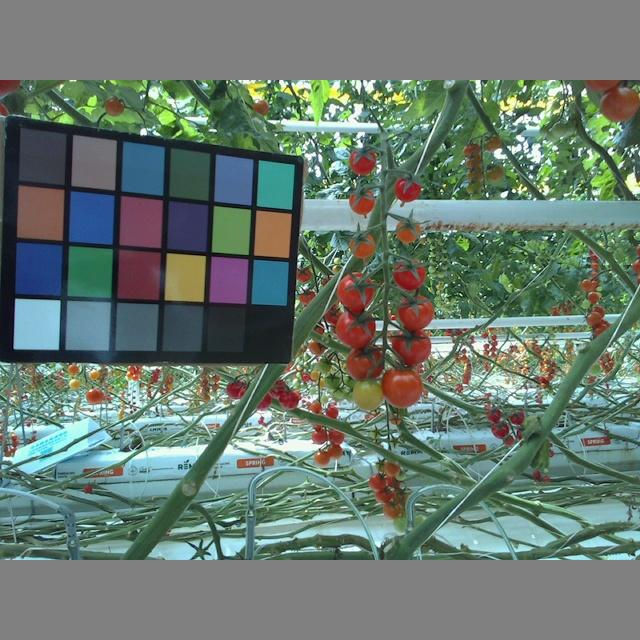green: (352, 377, 383, 412)
pink: (380, 367, 424, 406), (596, 86, 640, 122), (345, 346, 382, 381), (349, 187, 376, 217), (346, 235, 377, 259), (394, 219, 422, 243)
red: (335, 273, 376, 310), (397, 294, 435, 331), (390, 331, 431, 365), (337, 313, 377, 347), (391, 259, 425, 289), (348, 150, 377, 177), (392, 178, 421, 202)
